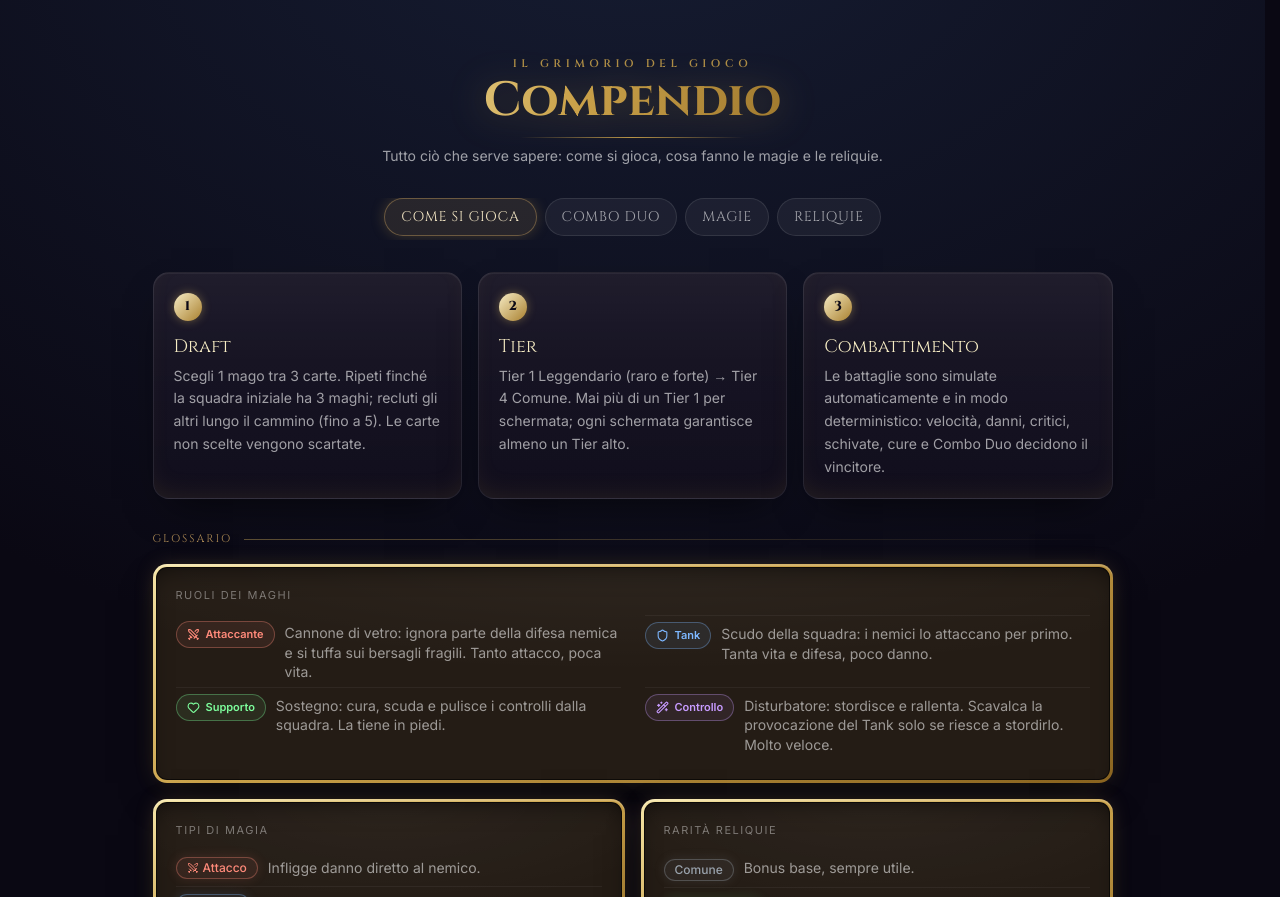
Test case: Compendio (RulesScreen) › lists every Combo Duo with its effect under the Combo Duo tab
Click the button "Combo Duo" at (611, 216), box x1=545 y1=198 x2=677 y2=236
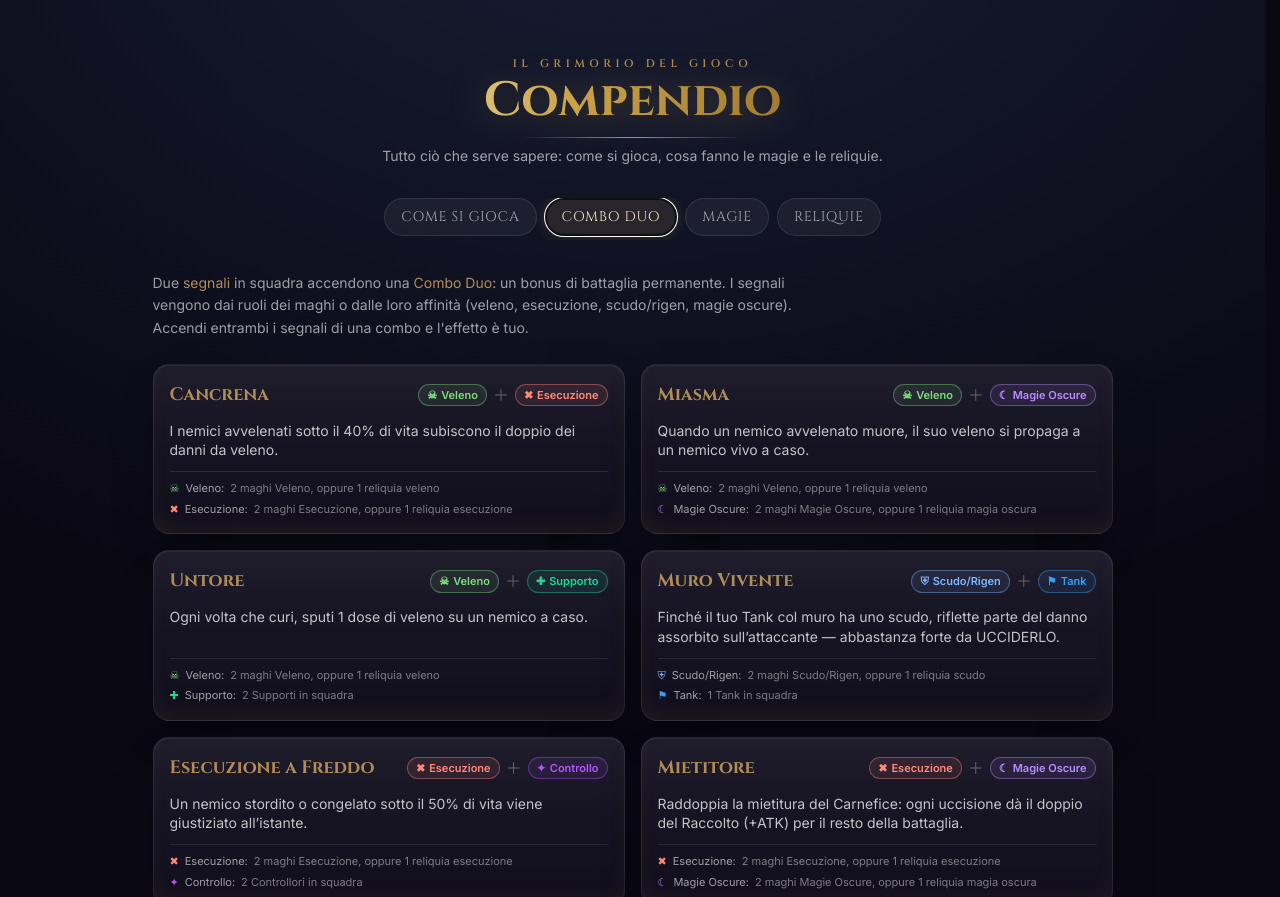
Now the text "Cancrena" is shown, box x1=170 y1=381 x2=269 y2=409
Now the text "I nemici avvelenati sotto il 40% di vita subiscono il doppio dei danni da veleno." is shown, box x1=170 y1=422 x2=575 y2=458
Now the text "Miasma" is shown, box x1=658 y1=381 x2=729 y2=409
